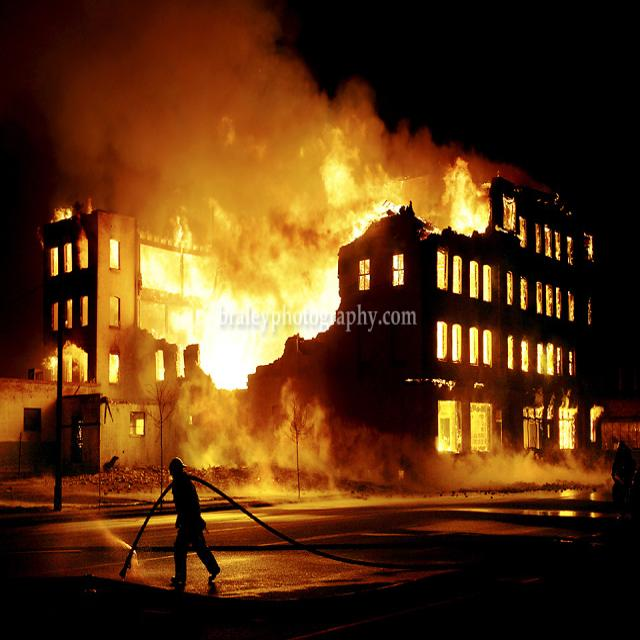Fire: (444, 181, 596, 364), (154, 255, 348, 388), (44, 215, 98, 377), (321, 145, 406, 244), (430, 156, 489, 234), (436, 405, 461, 455), (471, 409, 489, 449), (560, 412, 572, 452)
Smoke: (58, 13, 427, 211), (189, 392, 351, 478), (405, 444, 602, 488)
